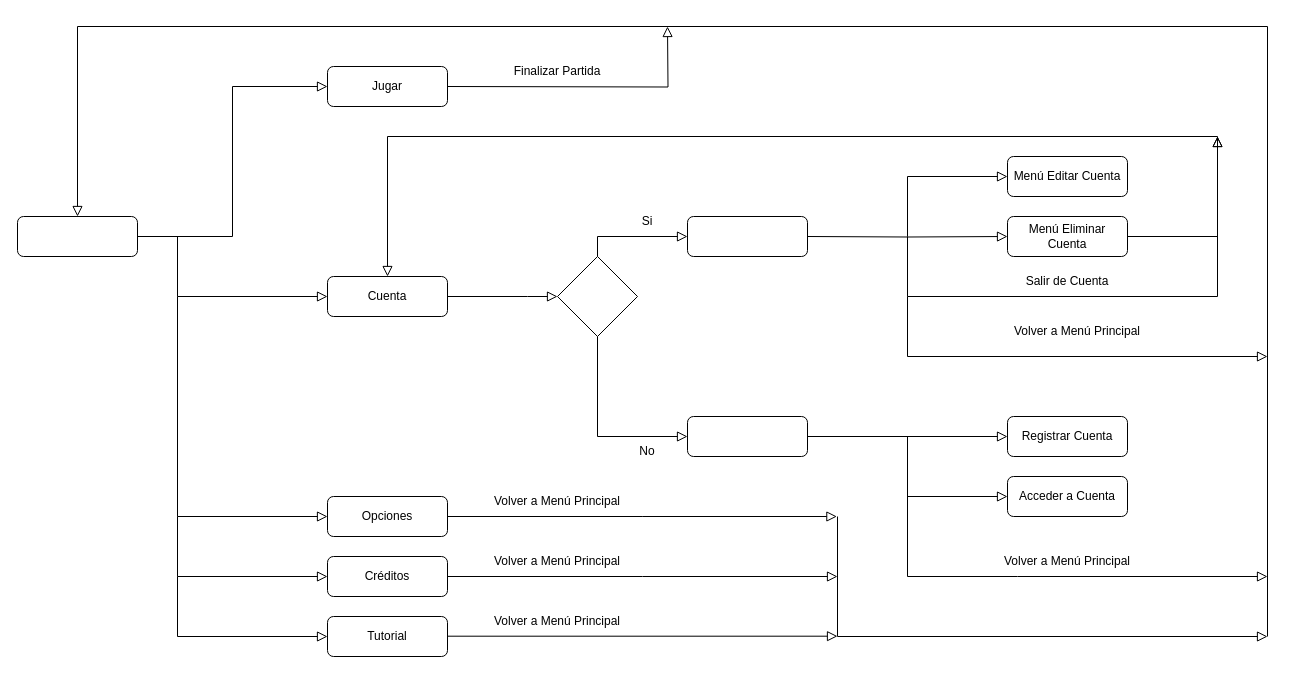
Image size: 1295x674. Some labels were removed from this diagram. The centre of each missing label's shape, as x and y in pixels:
"Menu de Acceso" belongs at pixel 747 436.
"Menú de Cuenta" belongs at pixel 747 236.
"Menú Principal" belongs at pixel 77 236.
"¿Sesión iniciada?" belongs at pixel 597 296.
